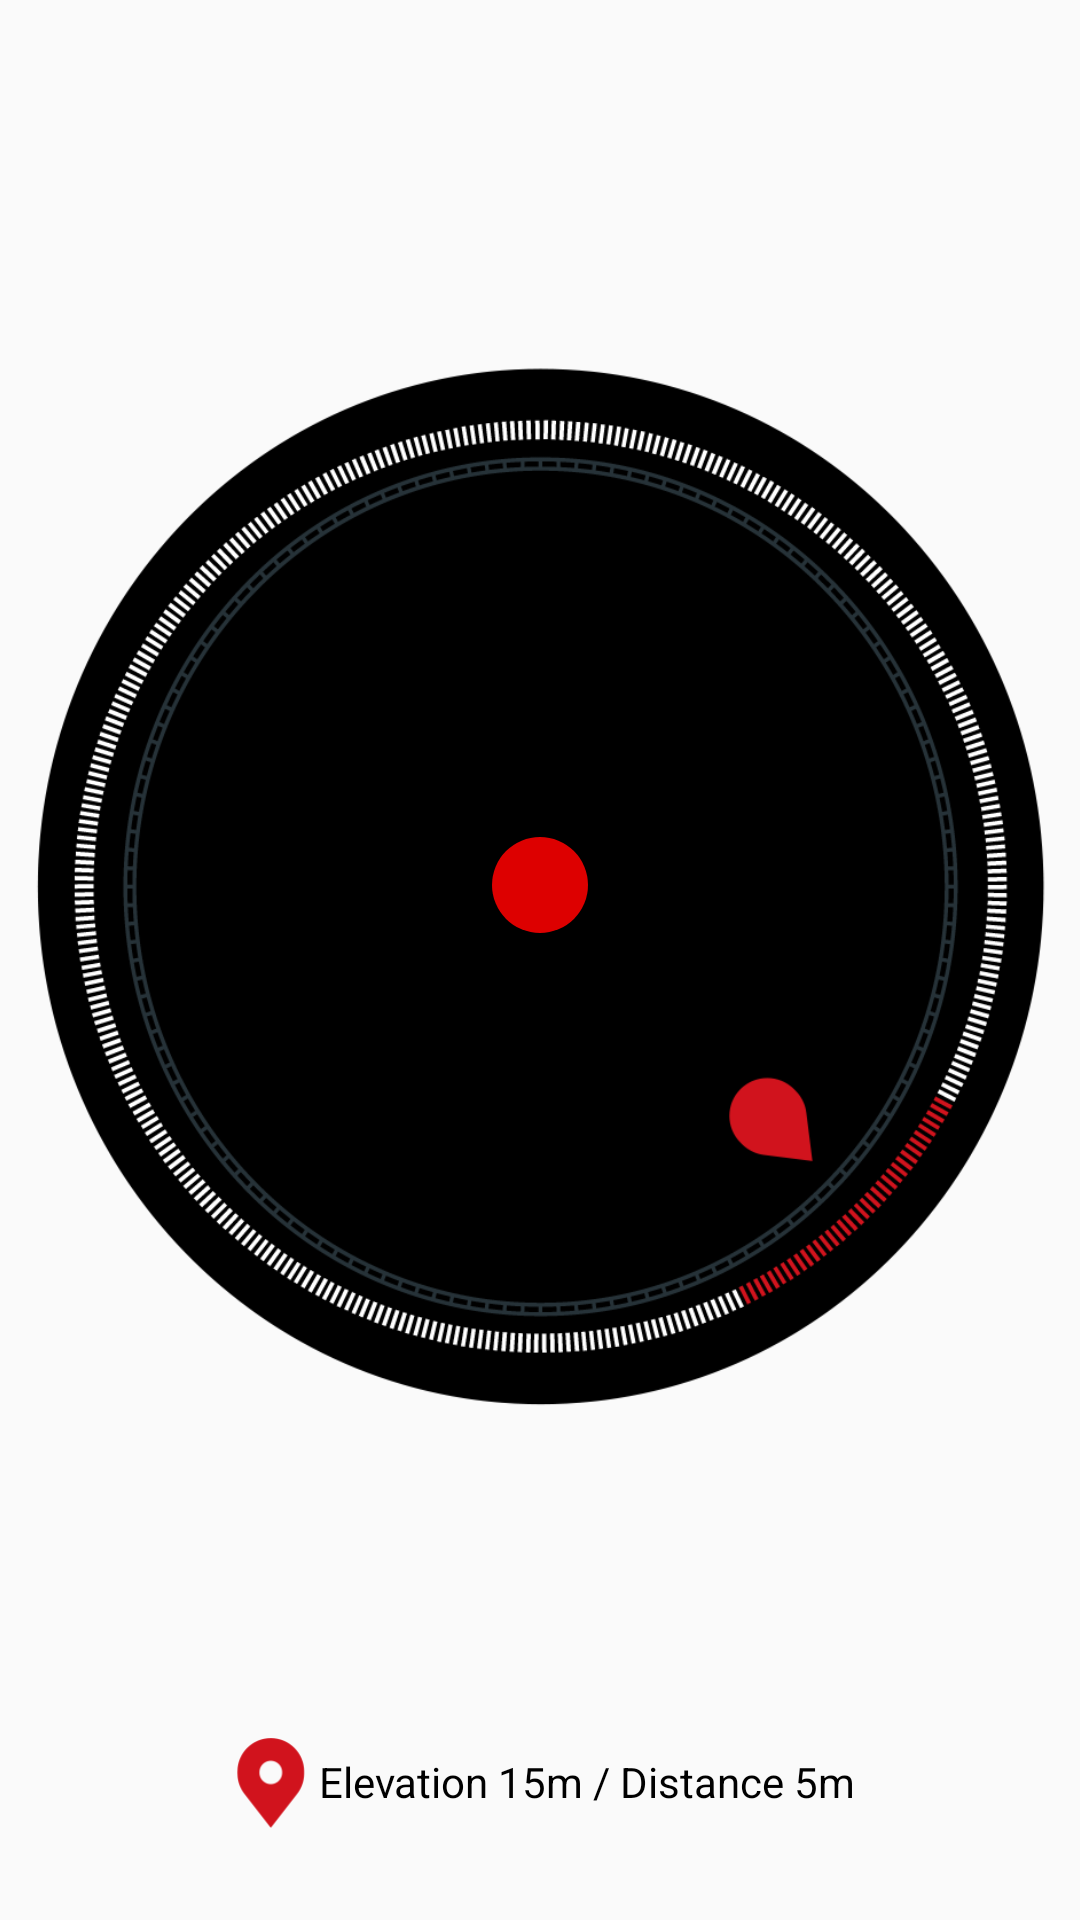

Named icons in this screenshot (1080*1920) and their bounding boxes, Rect(x1, y1, x2, y2):
loc pin: Rect(237, 1738, 305, 1828)
